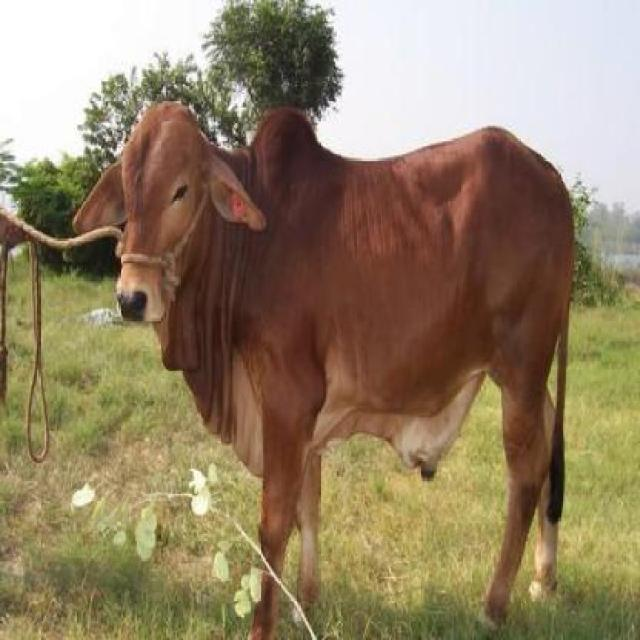Cow: (74, 103, 577, 639)
